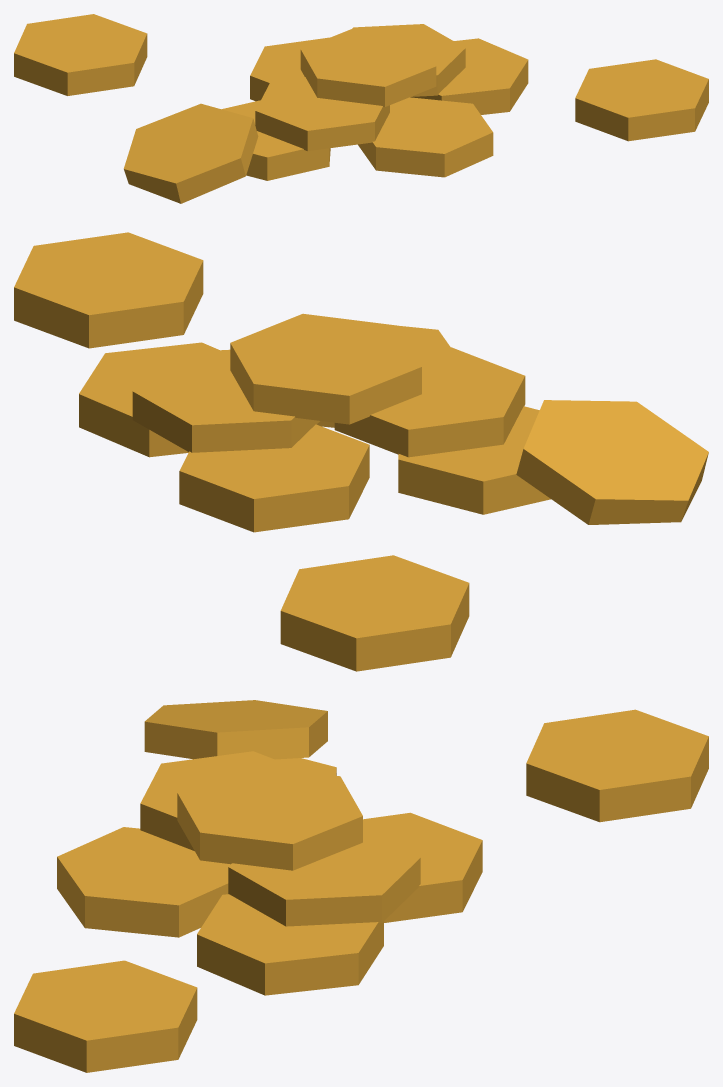
File: Coin_5.fbx
3 views of the same model, one above another, from view 1: azimuth 30°, elevation 25°; view 2: azimuth 150°, elevation 25°; view 3: azimuth 270°, elevation 25° (orthographic). The views are drawn at different scales.
Visible parts, largest first — view 1: Coin_5; view 2: Coin_5; view 3: Coin_5.
Part boxes in pixels (x1=…): Coin_5: x1=14, y1=14, x2=708, y2=203; Coin_5: x1=14, y1=232, x2=708, y2=671; Coin_5: x1=14, y1=700, x2=708, y2=1072.
Size of the model in its own units: 26.64 by 3.03 by 22.33.
